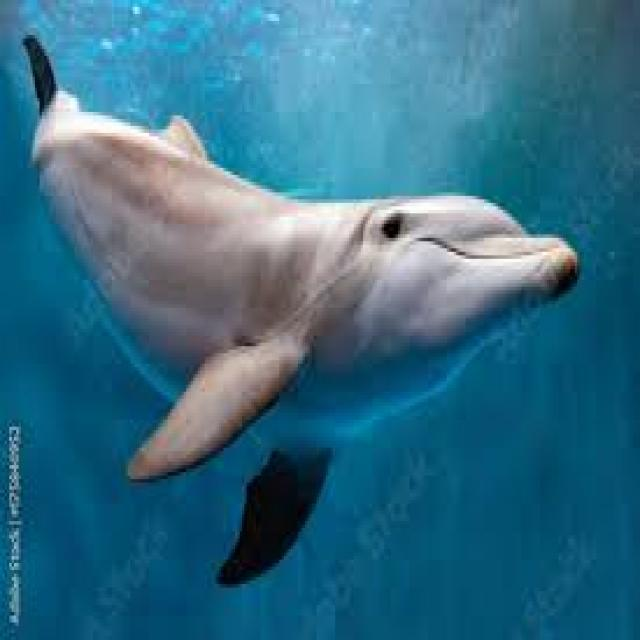dolphin: (32, 56, 578, 395)
